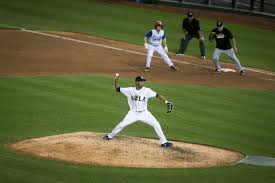baseball: (115, 72, 119, 77)
baseball player: (102, 73, 174, 147), (142, 18, 177, 72)
